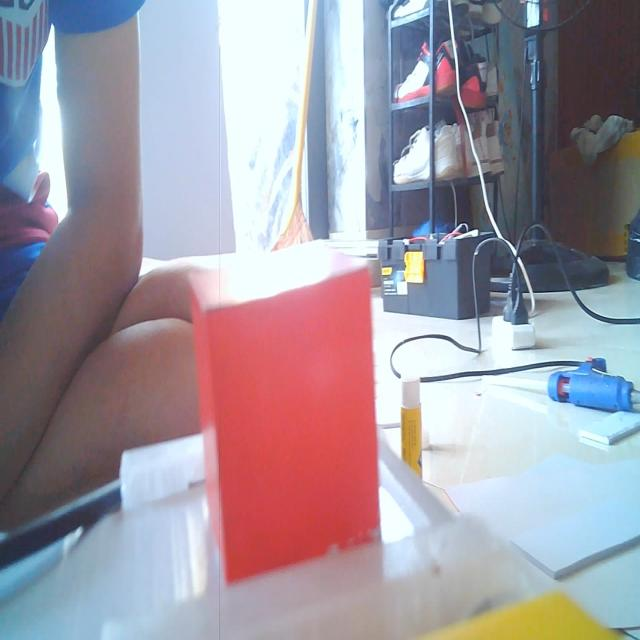red: (188, 262, 384, 584)
